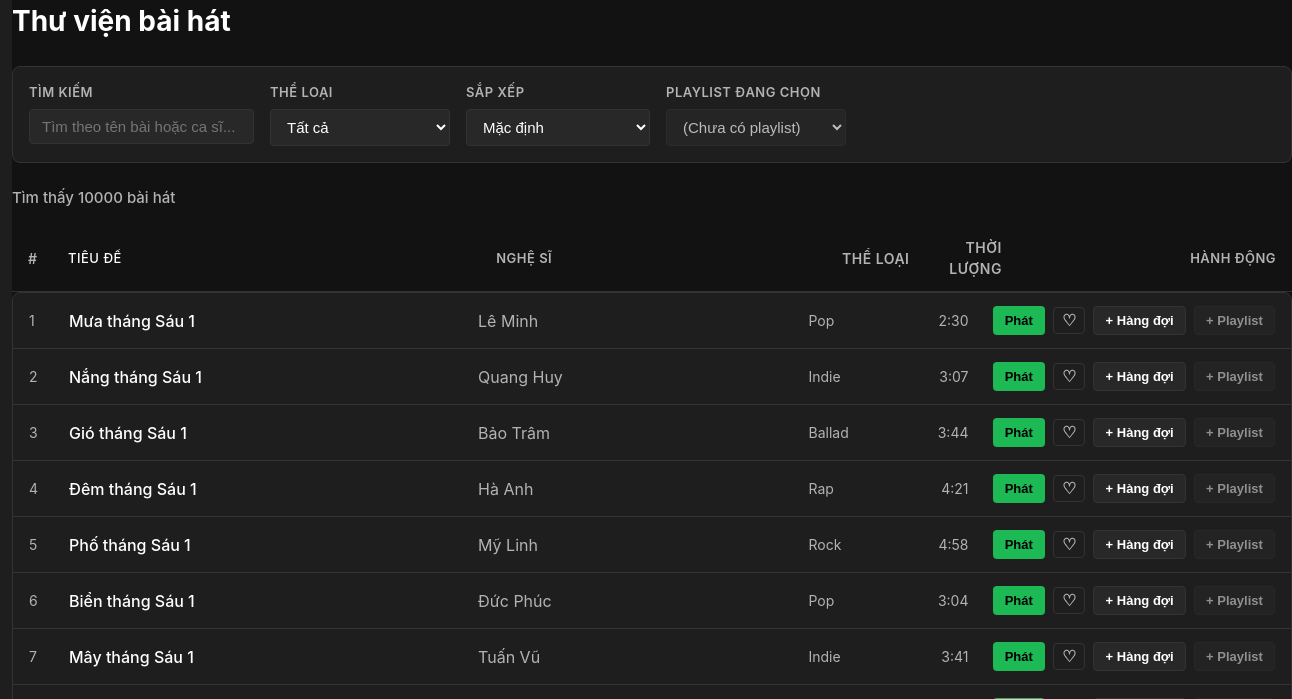
Test: LibraryPage component › tìm kiếm có debounce: gõ "mưa", sau 300ms tìm thấy 1250 bài hát
Type "mưa" into the field labelled "Tìm kiếm" at (142, 126), box [29,109,254,144]
Wait 300 ms
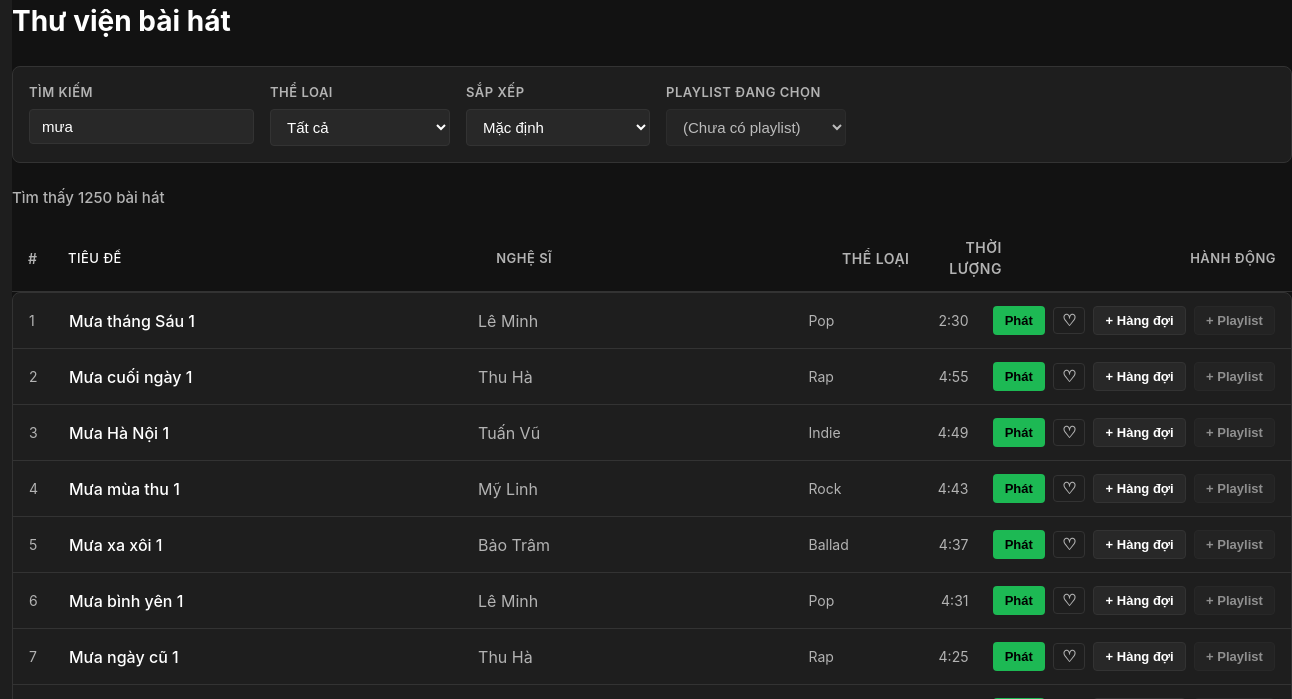
Expected: the text "Tìm thấy 1250 bài hát" is shown, [12,188,164,207]
